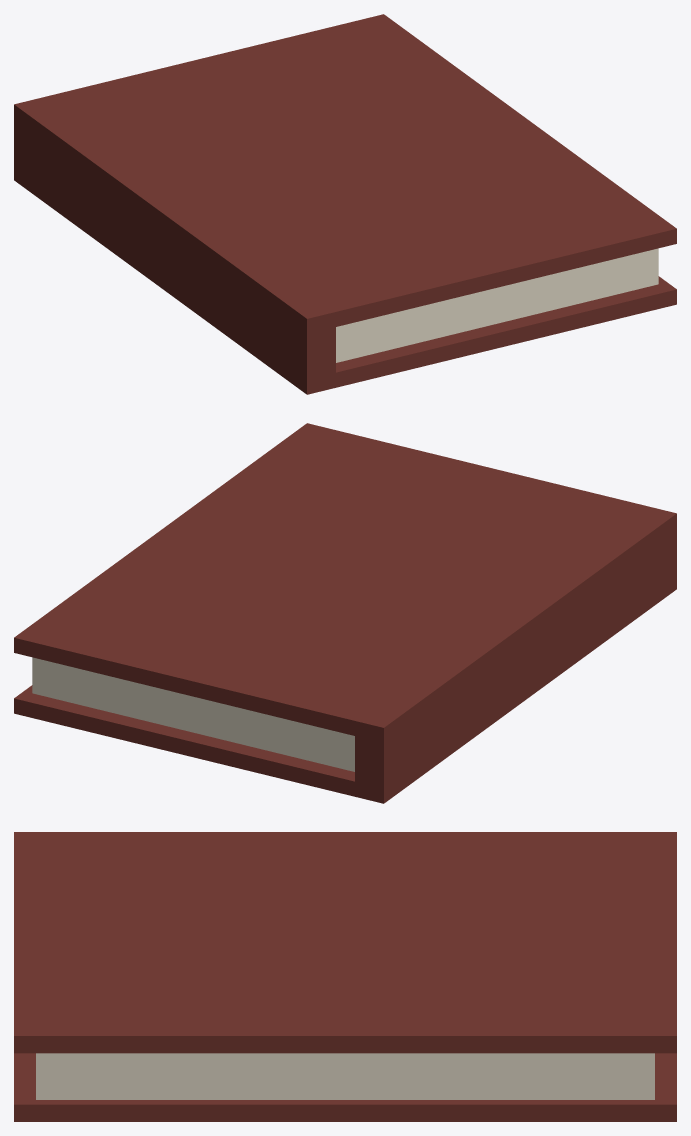
Rendered from Prop_GardenDiary.fbx.
The picture shows the model from 3 angles, top to bottom: view 1: azimuth 30°, elevation 25°; view 2: azimuth 150°, elevation 25°; view 3: azimuth 270°, elevation 25°; orthographic projection. The views are drawn at different scales.
Parts seen in each view (by area): view 1: GardenDiary_Cover, GardenDiary_Pages; view 2: GardenDiary_Cover, GardenDiary_Pages; view 3: GardenDiary_Cover, GardenDiary_Pages.
Part boxes in pixels (box(x1,y1,x2,y2)): GardenDiary_Cover: box(14, 14, 676, 394); GardenDiary_Pages: box(336, 248, 658, 362); GardenDiary_Cover: box(14, 423, 676, 803); GardenDiary_Pages: box(32, 657, 354, 771); GardenDiary_Cover: box(14, 832, 676, 1121); GardenDiary_Pages: box(36, 1053, 654, 1099).
Bounding box in the file's own units: 0.153 × 0.03 × 0.21.
